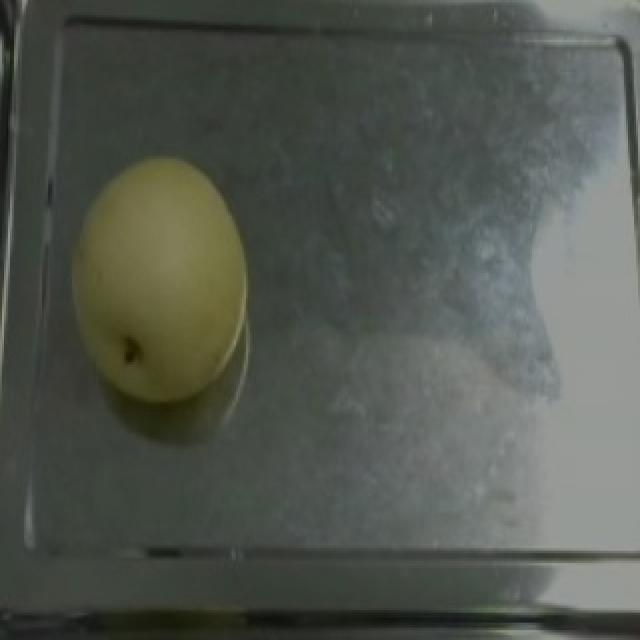Fruit: (44, 146, 262, 417)
